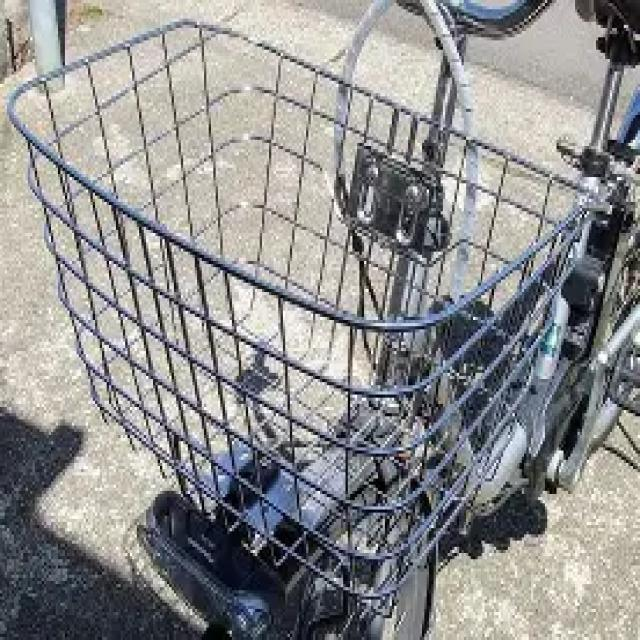basket: (8, 19, 596, 617)
